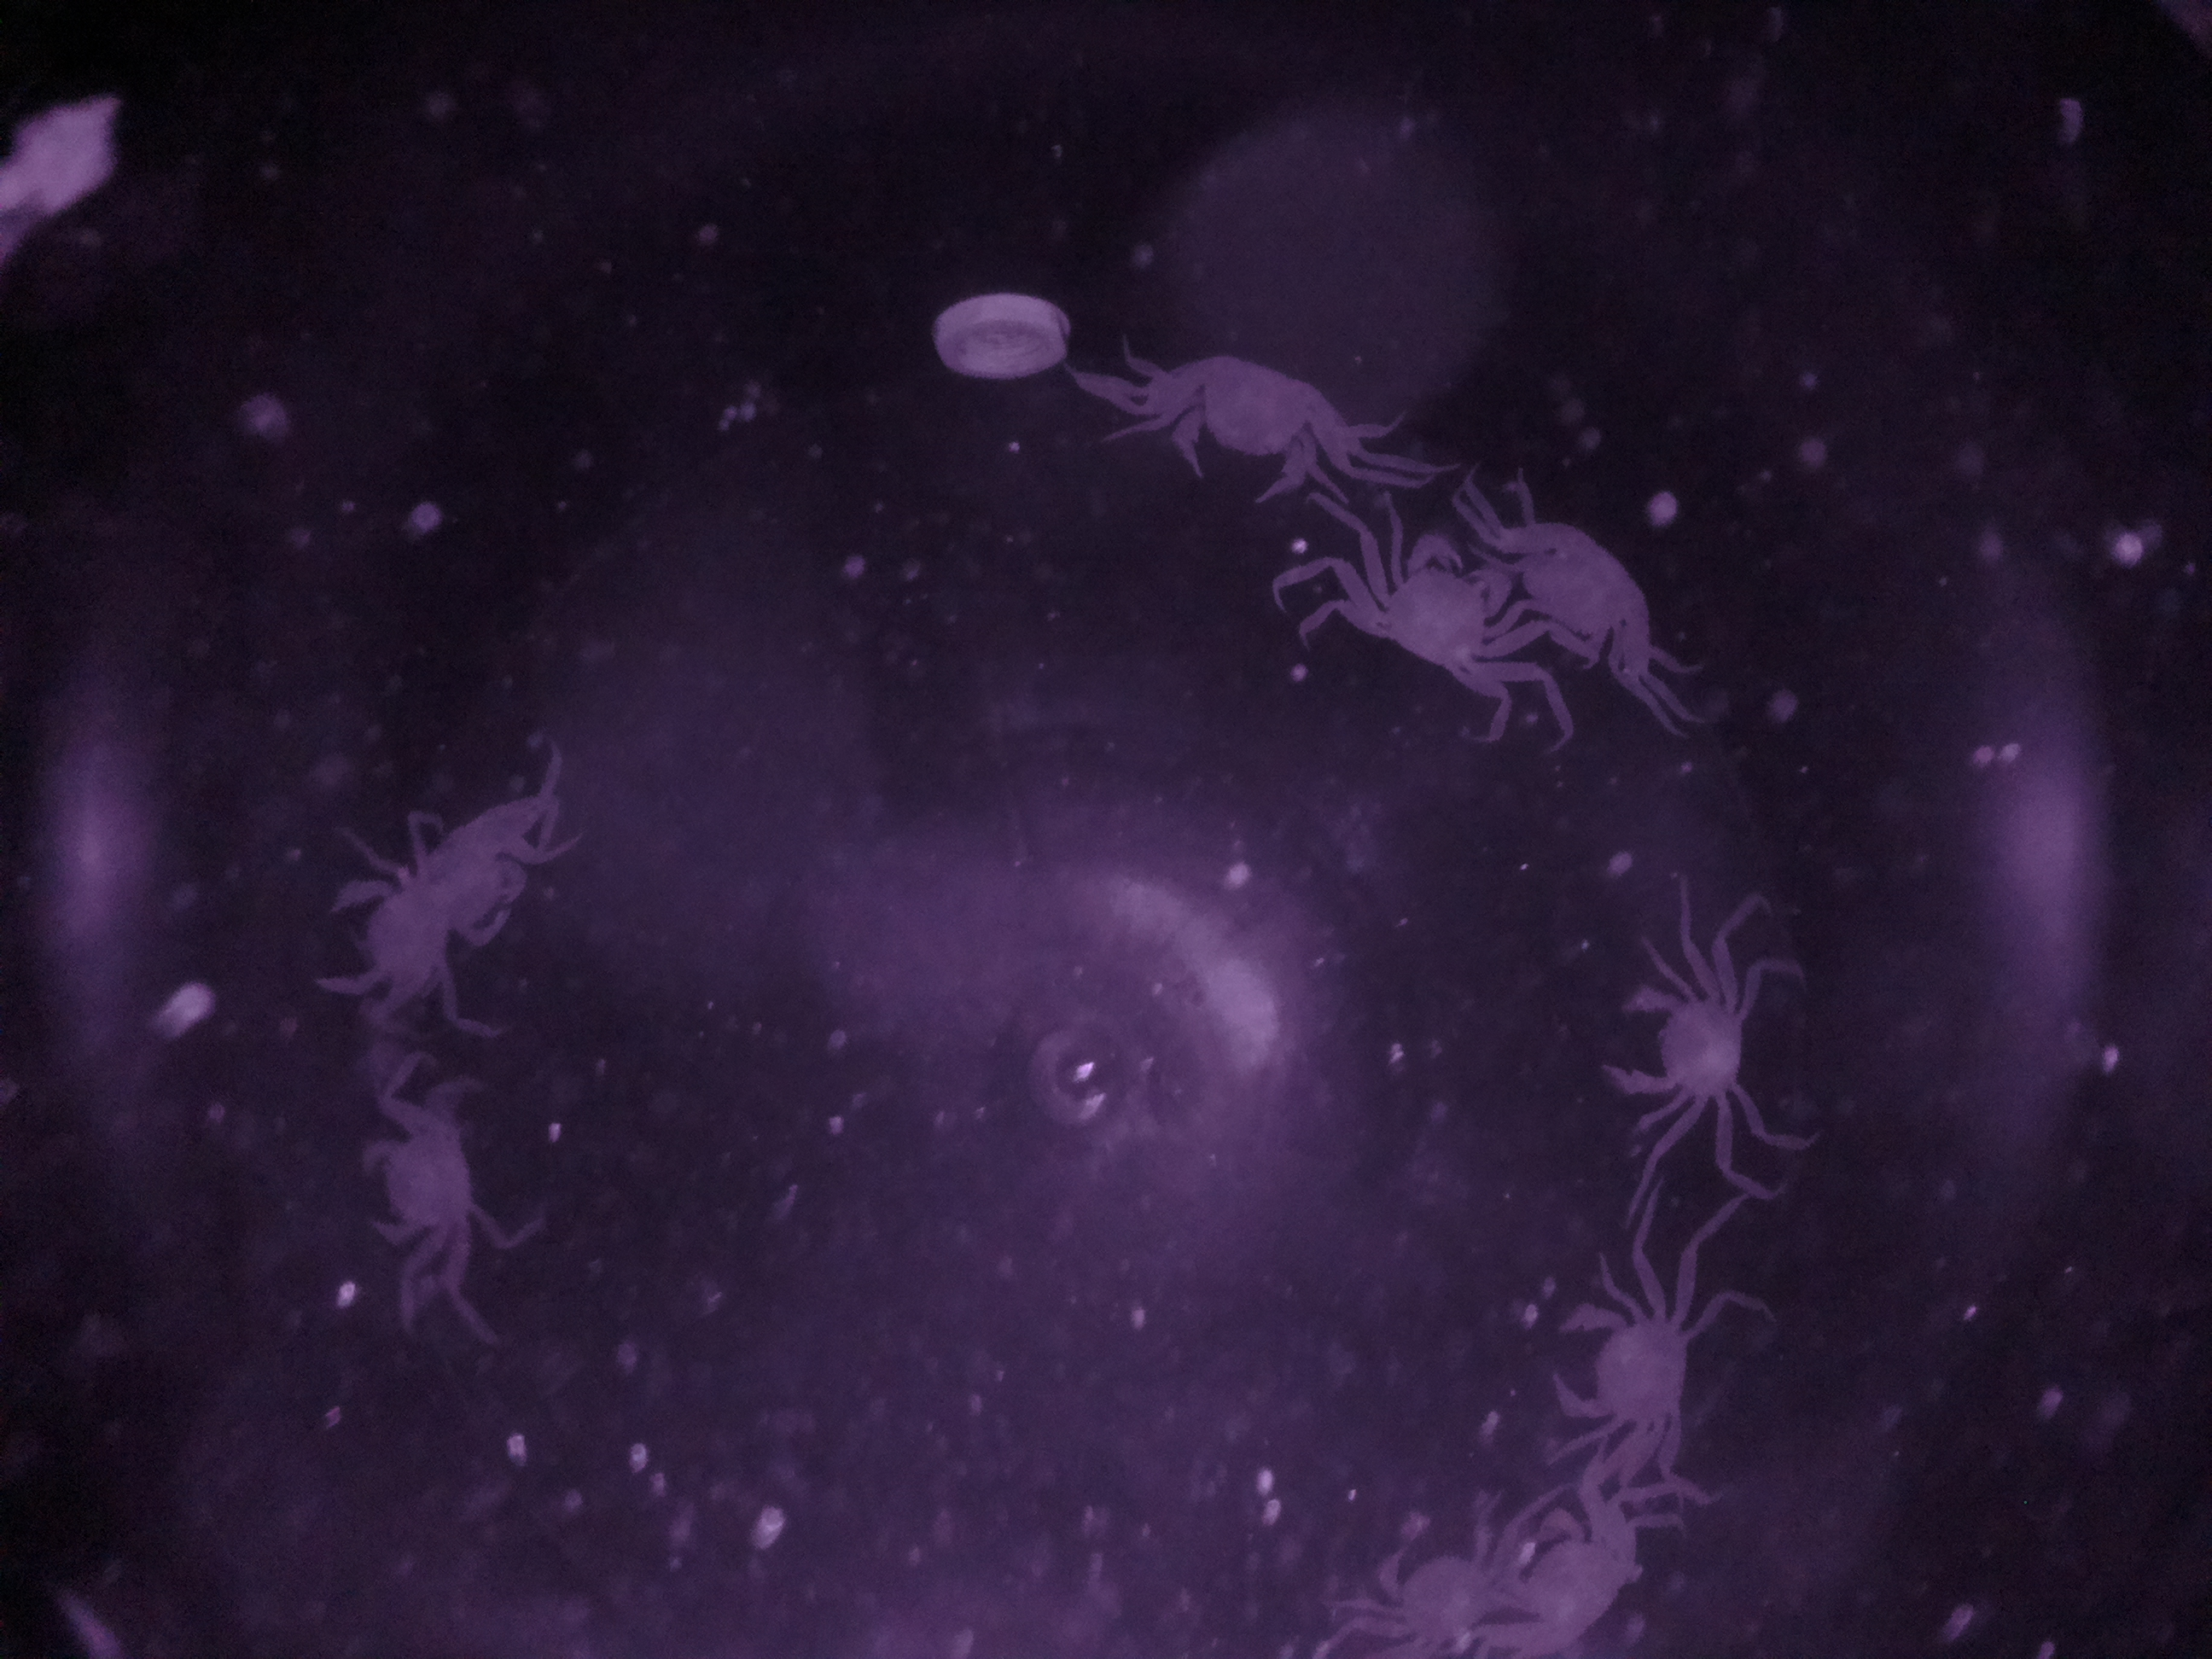Crab: (1529, 1267, 1728, 1460), (1130, 357, 1360, 516), (1575, 971, 1784, 1141), (1359, 530, 1514, 709)
